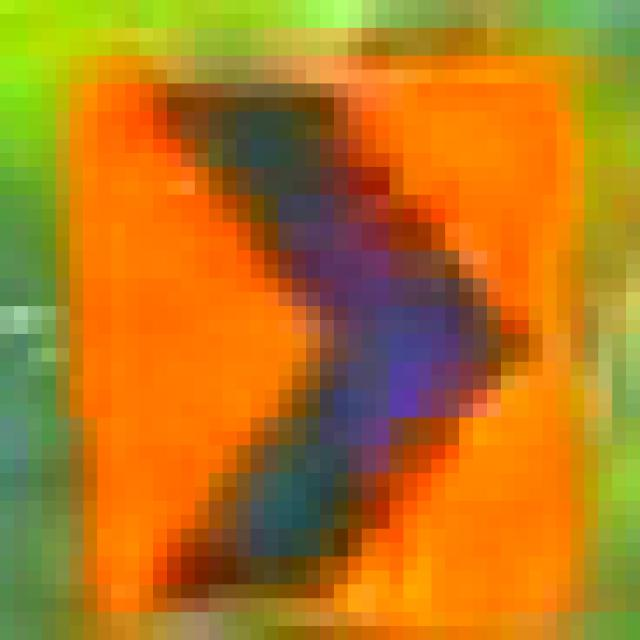curveright_sign: (56, 42, 570, 612)
